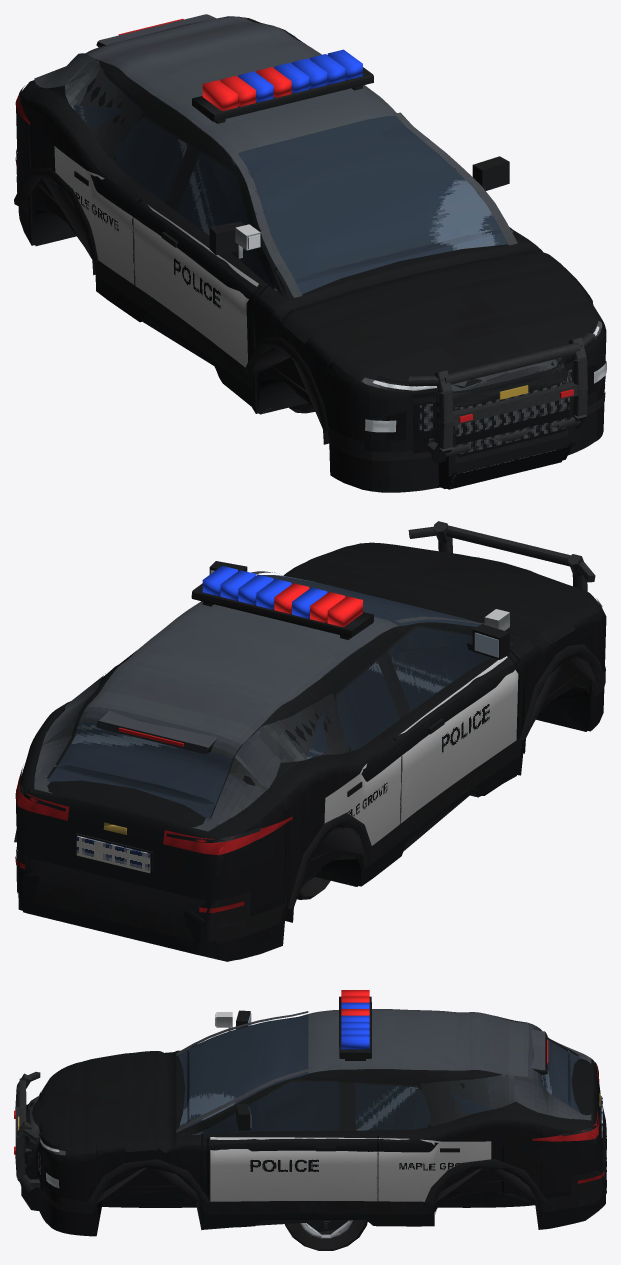
The model's file is blazonppv23.glb.
3 views of the same model, one above another, from view 1: azimuth 30°, elevation 25°; view 2: azimuth 150°, elevation 25°; view 3: azimuth 270°, elevation 25° (orthographic). The views are drawn at different scales.
Parts seen in each view (by area): view 1: Body, Paint, Body_far, Paint_far, BarB, BarR; view 2: Body, Paint, Body_far, Paint_far, BarB, BarR; view 3: Body, Paint, Body_far, Paint_far, BarB, Wheel_far, Wheel, BarR.
Boxes of the visible parts, bbox=[...] form: Body: bbox=[14, 14, 606, 489]; Paint: bbox=[16, 17, 606, 492]; Body_far: bbox=[19, 30, 602, 463]; Paint_far: bbox=[26, 22, 604, 489]; BarB: bbox=[238, 49, 362, 102]; BarR: bbox=[202, 67, 291, 111]; Body: bbox=[14, 521, 605, 943]; Paint: bbox=[16, 542, 606, 961]; Body_far: bbox=[19, 521, 601, 906]; Paint_far: bbox=[18, 545, 600, 955]; BarB: bbox=[202, 565, 327, 618]; BarR: bbox=[274, 583, 362, 627]; Body: bbox=[14, 996, 606, 1214]; Paint: bbox=[21, 1015, 605, 1236]; Body_far: bbox=[14, 1010, 602, 1203]; Paint_far: bbox=[21, 1041, 605, 1234]; BarB: bbox=[341, 1002, 369, 1049]; Wheel_far: bbox=[302, 1219, 360, 1249]; Wheel: bbox=[284, 1219, 367, 1250]; BarR: bbox=[341, 990, 369, 1015].
Size of the model in its own units: 2.1 by 2.17 by 5.03.
Materials: 5 (3 with a texture image).
